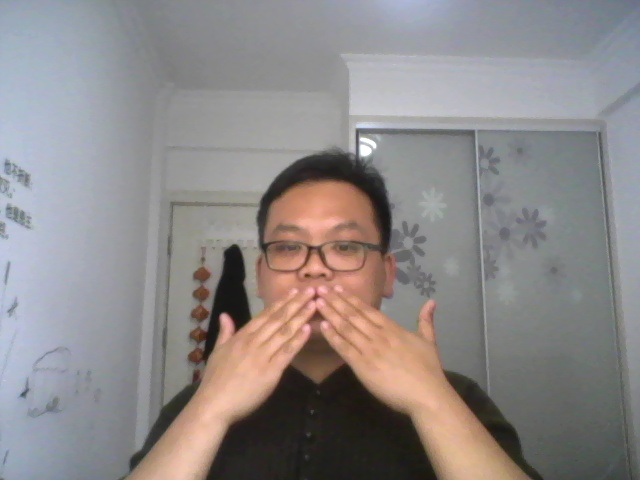Thank You: (193, 279, 455, 430)
